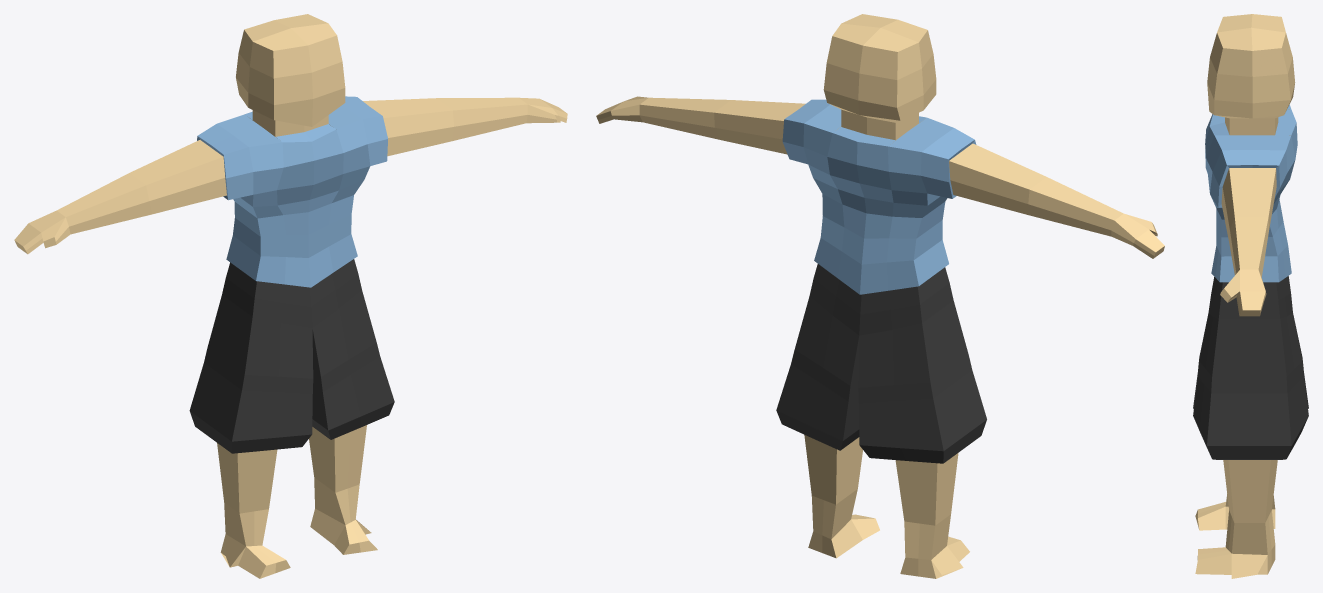
File: LowPloyHuman.fbx
3 renders of one model, left to right at view 1: azimuth 30°, elevation 25°; view 2: azimuth 150°, elevation 25°; view 3: azimuth 270°, elevation 25°, orthographic. The views are drawn at different scales.
Visible parts, largest first — view 1: LowPloyHuman; view 2: LowPloyHuman; view 3: LowPloyHuman.
Boxes of the visible parts, x1=… form: LowPloyHuman: x1=14, y1=14, x2=567, y2=578; LowPloyHuman: x1=596, y1=14, x2=1164, y2=578; LowPloyHuman: x1=1193, y1=14, x2=1308, y2=578.
Bounding box in the file's own units: 249 × 225 × 45.74.
